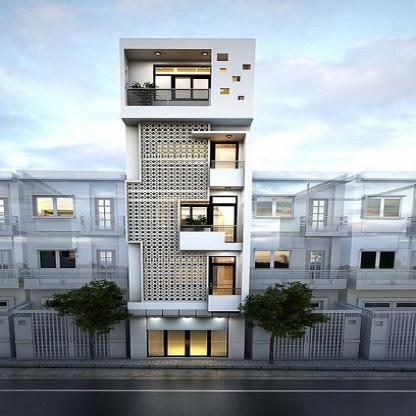Balcony: (124, 89, 211, 105), (180, 225, 243, 242), (210, 161, 244, 179), (209, 288, 242, 305)
Building Outline: (119, 38, 256, 359)
Door: (164, 322, 210, 357), (211, 142, 239, 181), (211, 68, 239, 106), (210, 204, 237, 243), (209, 264, 236, 301)
Facade: (119, 38, 256, 360)
Floor Slab: (120, 107, 254, 115), (127, 303, 207, 310), (180, 243, 243, 251), (210, 179, 244, 187), (209, 305, 249, 311)
Window: (123, 49, 211, 106), (155, 68, 209, 99), (157, 196, 209, 226), (155, 256, 208, 285), (157, 143, 210, 164), (211, 322, 226, 356), (148, 322, 163, 356), (209, 256, 236, 263), (210, 197, 237, 204), (218, 54, 229, 61), (221, 88, 230, 95), (243, 65, 251, 70), (233, 76, 241, 81), (221, 68, 228, 73), (238, 96, 245, 101)
